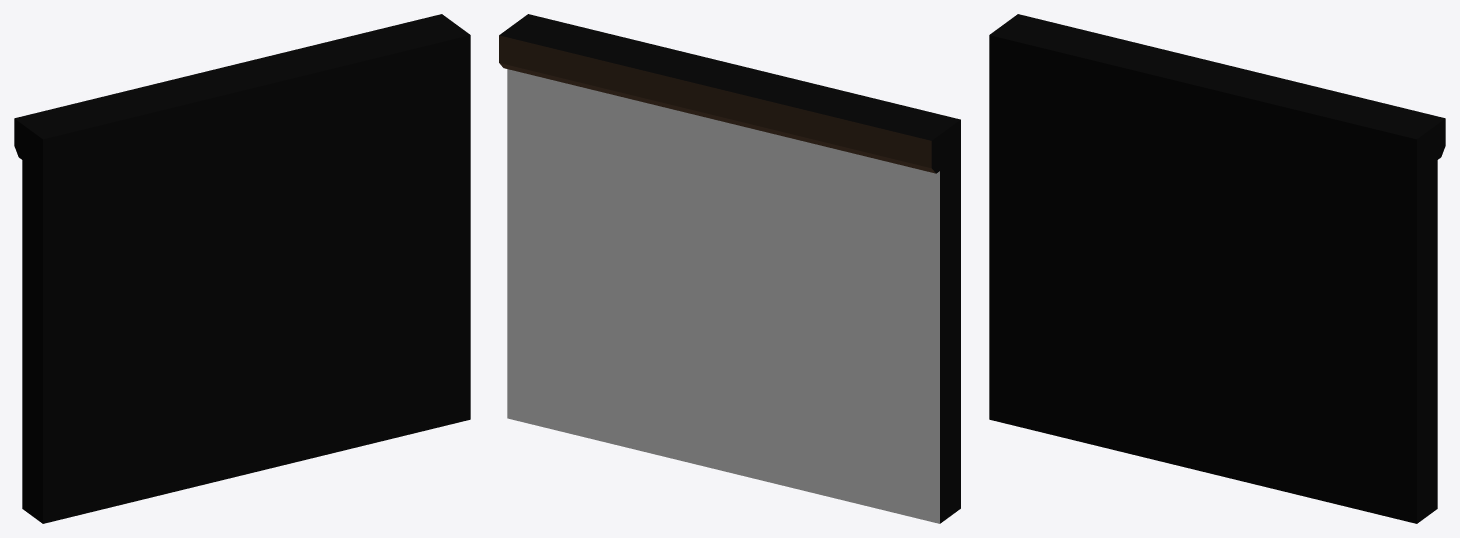
Rendered from Wall_01_FirePlace.fbx.
The picture shows the model from 3 angles, left to right: view 1: azimuth 30°, elevation 25°; view 2: azimuth 150°, elevation 25°; view 3: azimuth 330°, elevation 25°; orthographic projection.
Visible parts, largest first — view 1: Cube.032; view 2: Cube.032; view 3: Cube.032.
Part boxes in pixels (x1,y1,x2,y2): Cube.032: (14,14,470,523); Cube.032: (499,14,960,523); Cube.032: (989,14,1445,523).
Size of the model in its own units: 0.2334 by 2 by 1.72.
